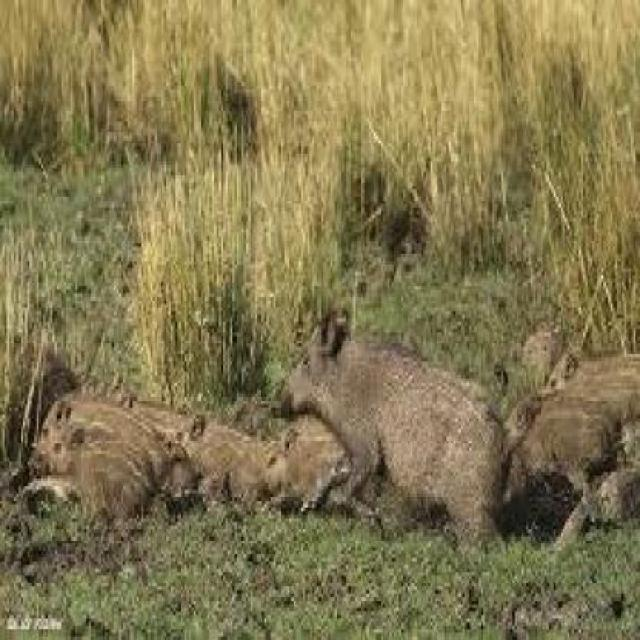wildboar: (268, 304, 534, 554), (24, 385, 176, 533), (488, 394, 630, 544), (535, 334, 640, 514), (160, 396, 283, 516), (258, 410, 377, 530)
